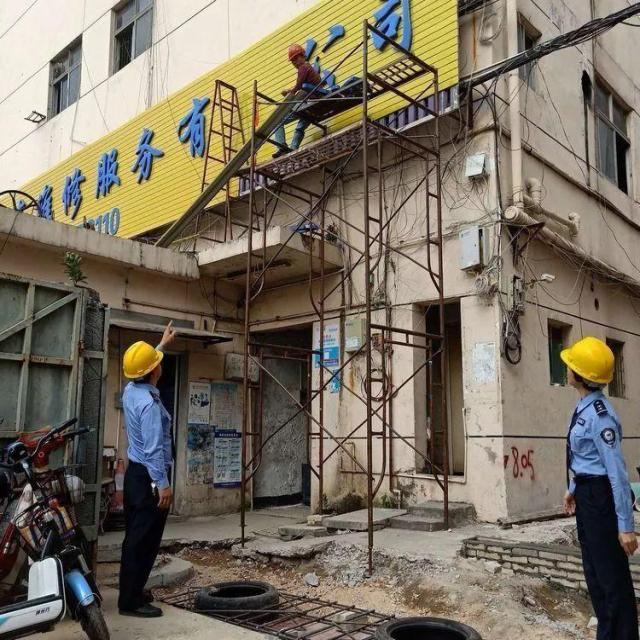helmet: (556, 331, 616, 395), (118, 335, 167, 391), (284, 40, 306, 69)
